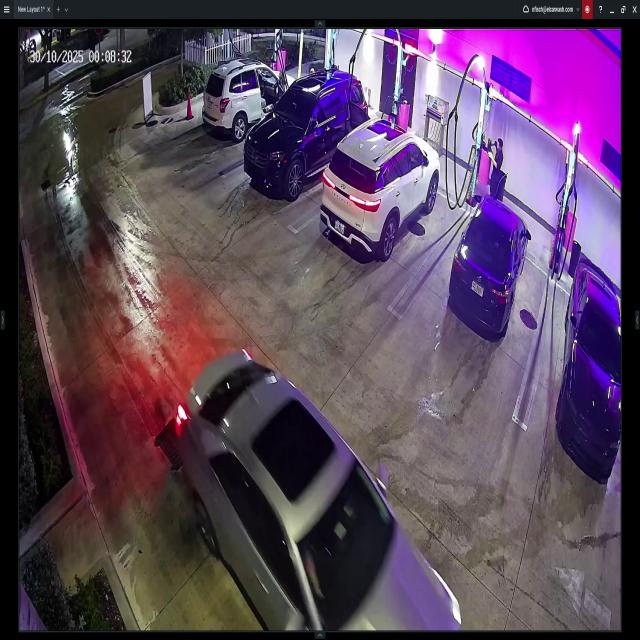Car: (174, 350, 462, 630), (322, 119, 442, 262), (244, 72, 369, 194), (556, 255, 622, 479), (449, 197, 533, 338), (201, 55, 295, 135)
